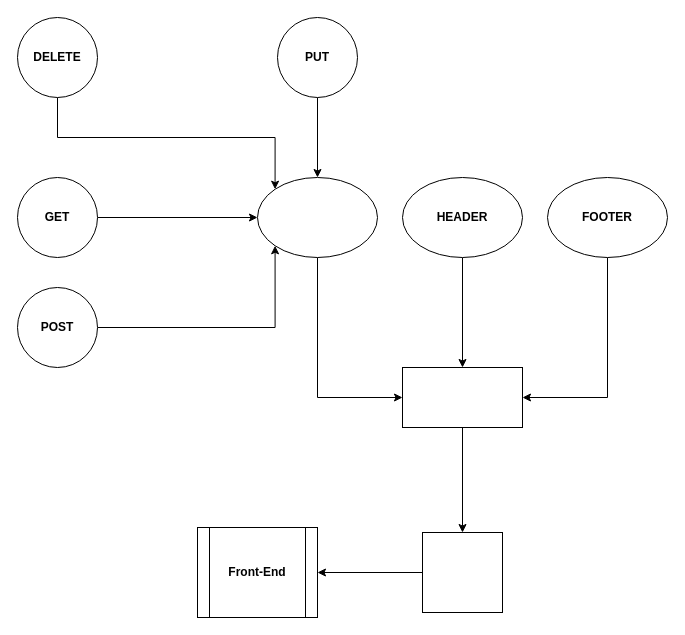
Some shapes in this 685 by 635 pixel diagram are drawn without their labels. Each missing label, with the centre of its shape:
APP: (462,397)
FORM: (317,217)
Index: (462,572)
